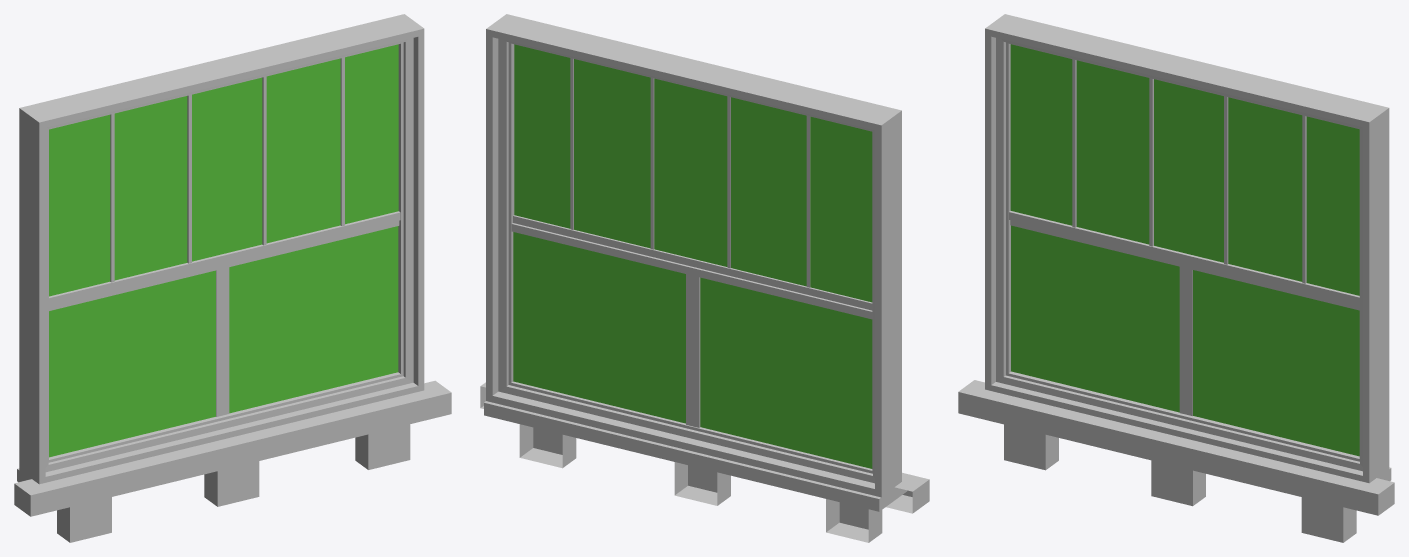
The model's file is Wall_Window_4.fbx.
The picture shows the model from 3 angles, left to right: view 1: azimuth 30°, elevation 25°; view 2: azimuth 150°, elevation 25°; view 3: azimuth 330°, elevation 25°; orthographic projection. The views are drawn at different scales.
Visible parts, largest first — view 1: Window_3; view 2: Window_3; view 3: Window_3.
Part boxes in pixels (x1=…): Window_3: x1=14, y1=14, x2=451, y2=542; Window_3: x1=480, y1=14, x2=929, y2=542; Window_3: x1=958, y1=14, x2=1394, y2=542.
Size of the model in its own units: 2.19 by 2.09 by 0.2812.
